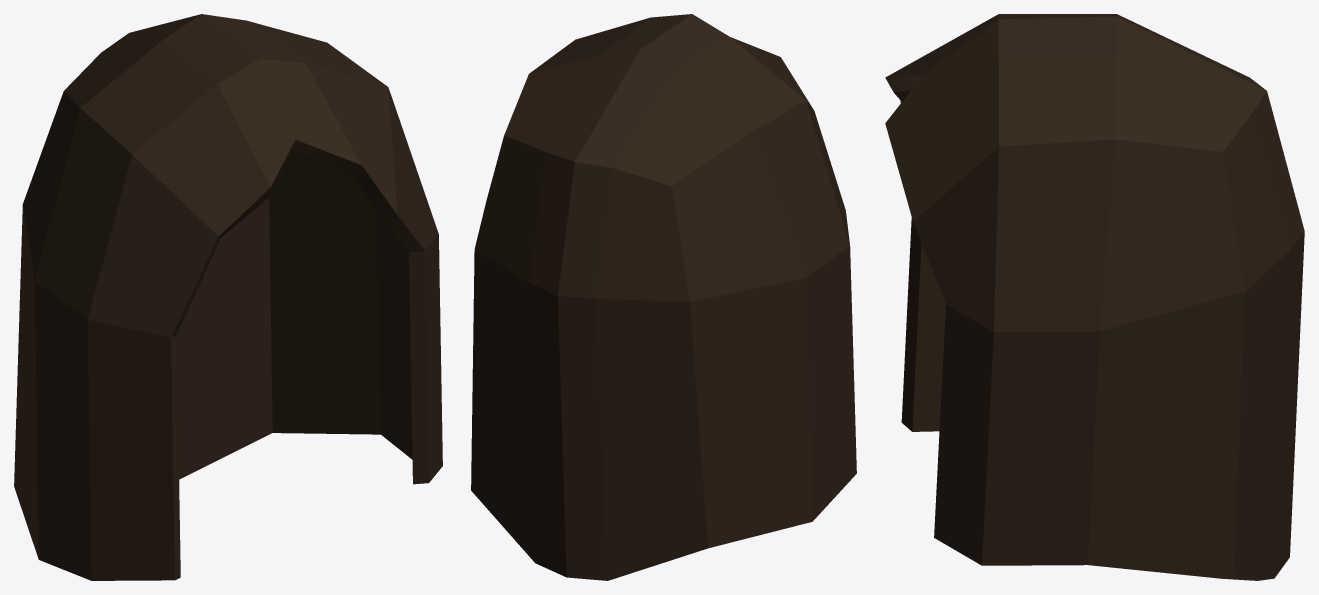
The model's file is Hairstyle_hippie_1.FBX.
3 renders of one model, left to right at view 1: azimuth 30°, elevation 25°; view 2: azimuth 150°, elevation 25°; view 3: azimuth 270°, elevation 25°, orthographic. The views are drawn at different scales.
Parts seen in each view (by area): view 1: Hippie_hairstyle; view 2: Hippie_hairstyle; view 3: Hippie_hairstyle.
Boxes of the visible parts, left/top/right/bottom form: Hippie_hairstyle: left=14, top=14, right=442, bottom=580; Hippie_hairstyle: left=471, top=14, right=856, bottom=580; Hippie_hairstyle: left=885, top=14, right=1304, bottom=580.
Size of the model in its own units: 7.5 by 7.41 by 10.63.
